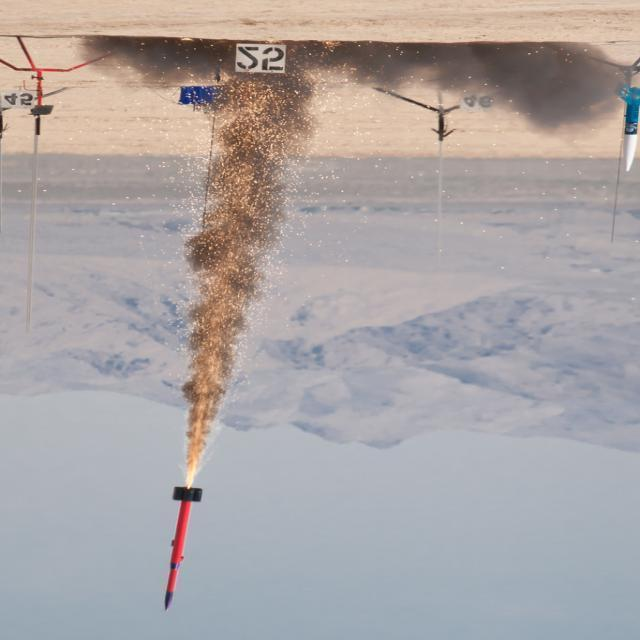missile: (160, 483, 198, 608)
